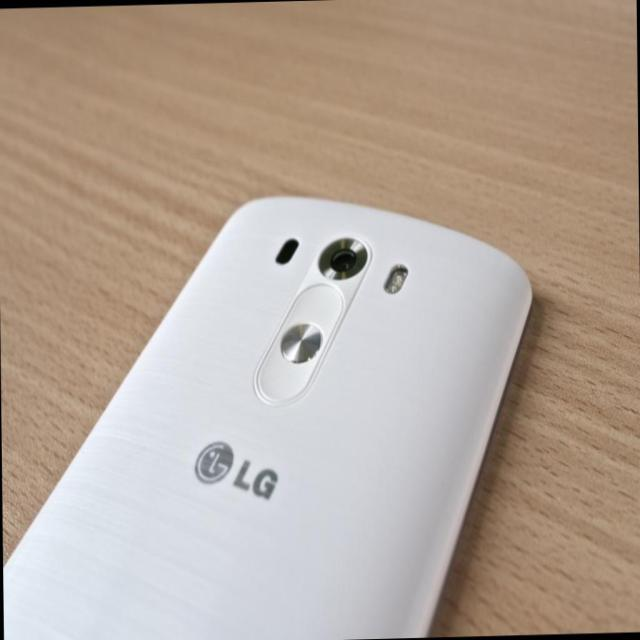handphone: (14, 198, 525, 621)
